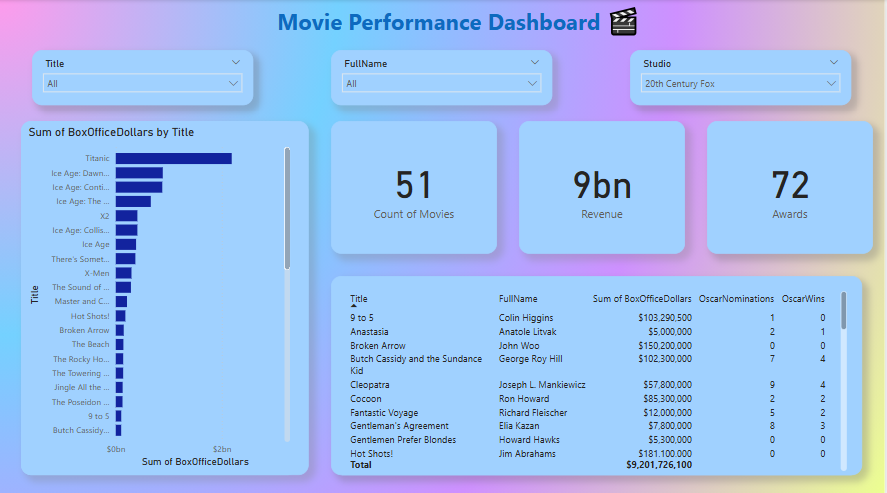

This screenshot's page, from the dashboard's own definition file:
{"tool":"powerbi","page":{"name":"Movie Performance Dashboard","canvas":[1280,720],"ordinal":0},"visuals":[{"type":"shape","box":[480,400,768,288],"z":1000},{"type":"shape","box":[32,176,416,512],"z":2000},{"type":"barChart","fields":{"Category":["Film.Title"],"Y":["Film.BoxOfficeDollars"]},"box":[32,176,400,512],"z":3000},{"type":"tableEx","fields":{"Values":["Film.Title","Director.FullName","Film.BoxOfficeDollars","Film.OscarNominations","Film.OscarWins"]},"box":[496,416,736,272],"z":4000},{"type":"slicer","fields":{"Values":["Film.Title"]},"box":[48,73.7,320,80],"z":5000},{"type":"slicer","fields":{"Values":["Director.FullName"]},"box":[480,73.7,320,80],"z":6000},{"type":"slicer","fields":{"Values":["Studio.Studio"]},"box":[912,73.7,320,80],"z":7000},{"type":"textbox","box":[256,0,768,64],"z":8000},{"type":"card","fields":{"Values":["Film.Title"]},"box":[480,176,240,192],"z":9000},{"type":"card","fields":{"Values":["Film.Revenue"]},"box":[752,176,240,192],"z":10000},{"type":"card","fields":{"Values":["Film.Awards"]},"box":[1024,176,240,192],"z":11000}]}

Visuals, with their boxes in screenshot pixels (x1, y1, x2, y2), scaled from the page's 1280x720 canvas onto the 887x493 screenshot:
shape: [333,274,865,471]
shape: [22,121,310,471]
barChart - Film.Title x Film.BoxOfficeDollars: [22,121,299,471]
tableEx - Film.Title x Director.FullName: [344,285,854,471]
slicer - Film.Title: [33,50,255,105]
slicer - Director.FullName: [333,50,554,105]
slicer - Studio.Studio: [632,50,854,105]
textbox: [177,0,710,44]
card - Film.Title: [333,121,499,252]
card - Film.Revenue: [521,121,687,252]
card - Film.Awards: [710,121,876,252]
